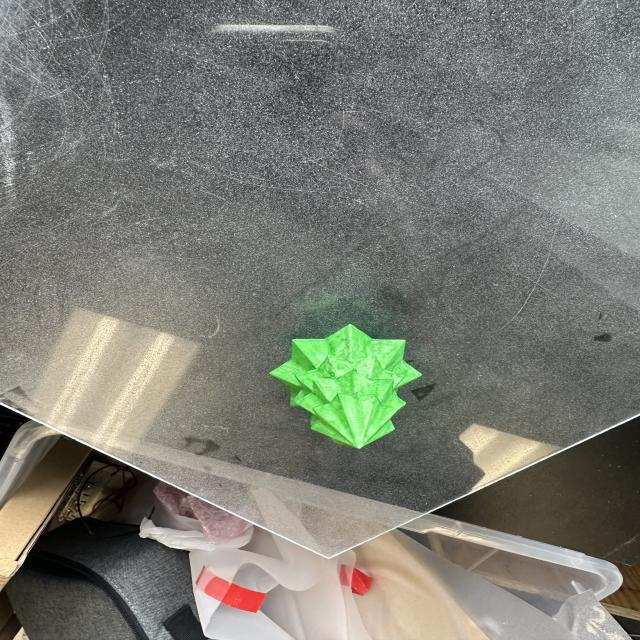tree: (267, 324, 422, 449)
